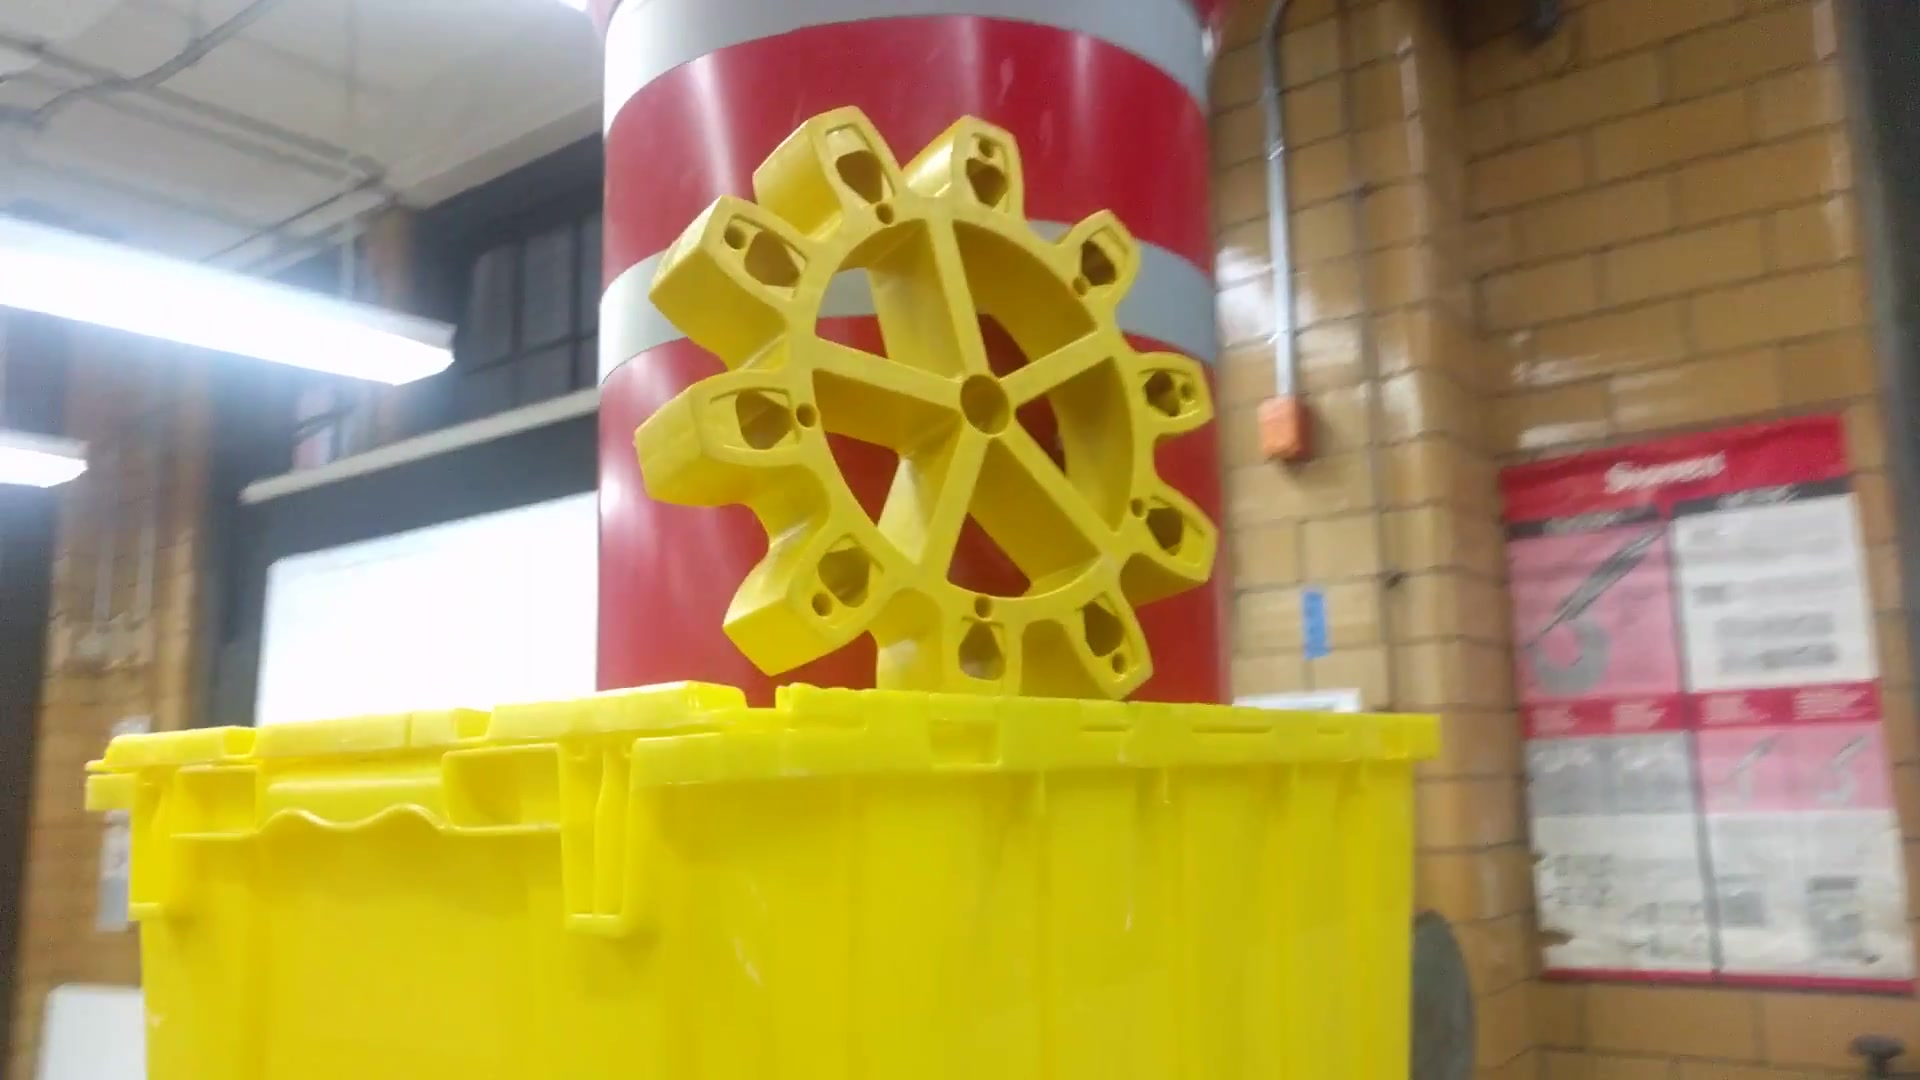gear: (629, 98, 1218, 713)
